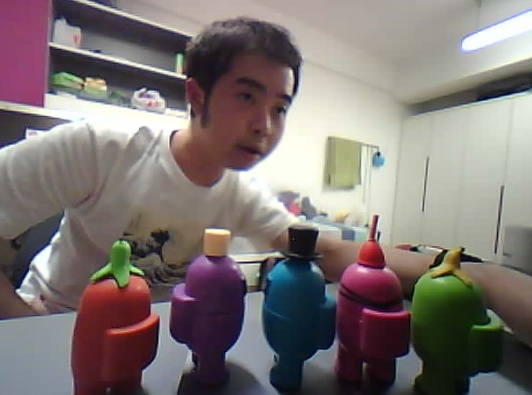alive: (408, 262, 507, 395), (68, 261, 164, 395), (167, 250, 250, 394), (260, 249, 339, 395), (334, 252, 413, 395)
